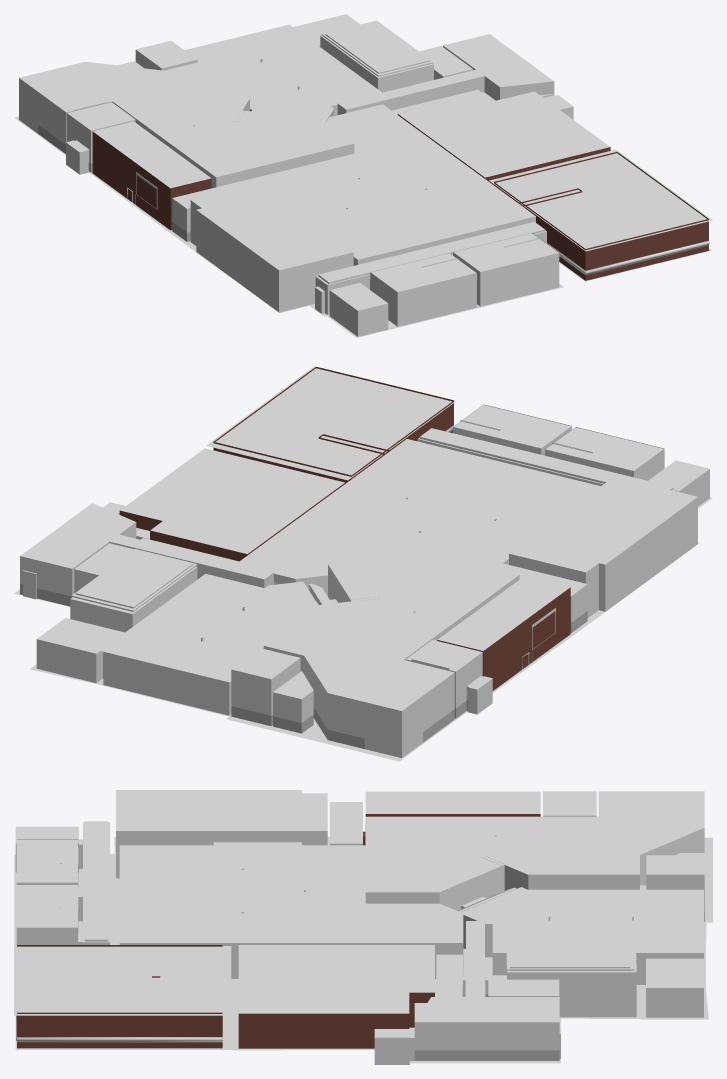
File: Map.glb
The picture shows the model from 3 angles, top to bottom: view 1: azimuth 30°, elevation 25°; view 2: azimuth 150°, elevation 25°; view 3: azimuth 270°, elevation 25°; orthographic projection. The views are drawn at different scales.
Visible parts, largest first — view 1: Main Restaurant, Props; view 2: Main Restaurant, Props; view 3: Main Restaurant, Props.
Part boxes in pixels (x1,y1,x2,y2): Main Restaurant: (14,20,712,337); Props: (66,14,573,289); Main Restaurant: (14,366,712,761); Props: (37,420,676,714); Main Restaurant: (14,790,712,1063); Props: (60,822,703,1064).
Bounding box in the file's own units: 34.15 × 3.62 × 43.76.
